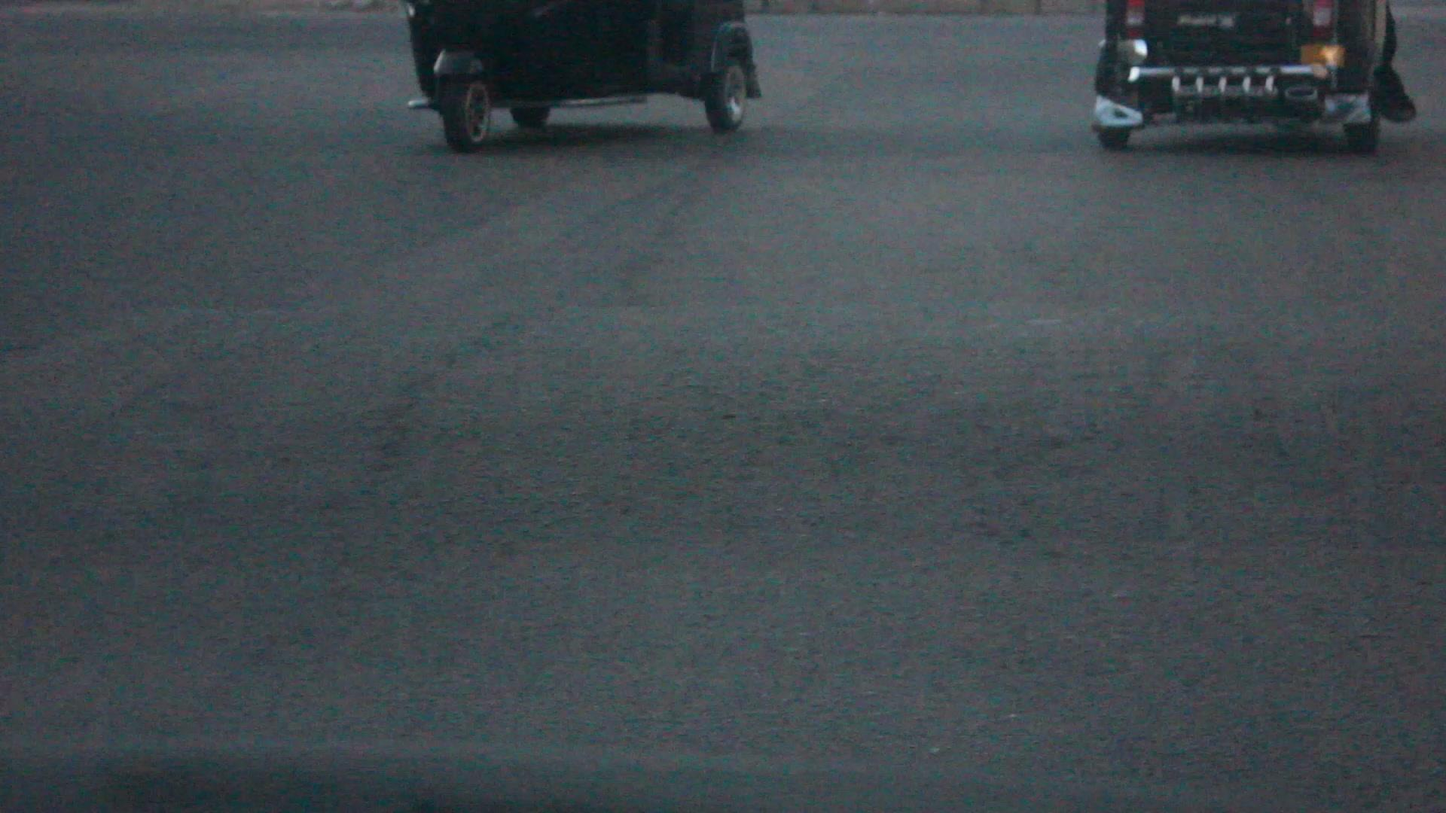Bump: (15, 305, 1446, 566)
